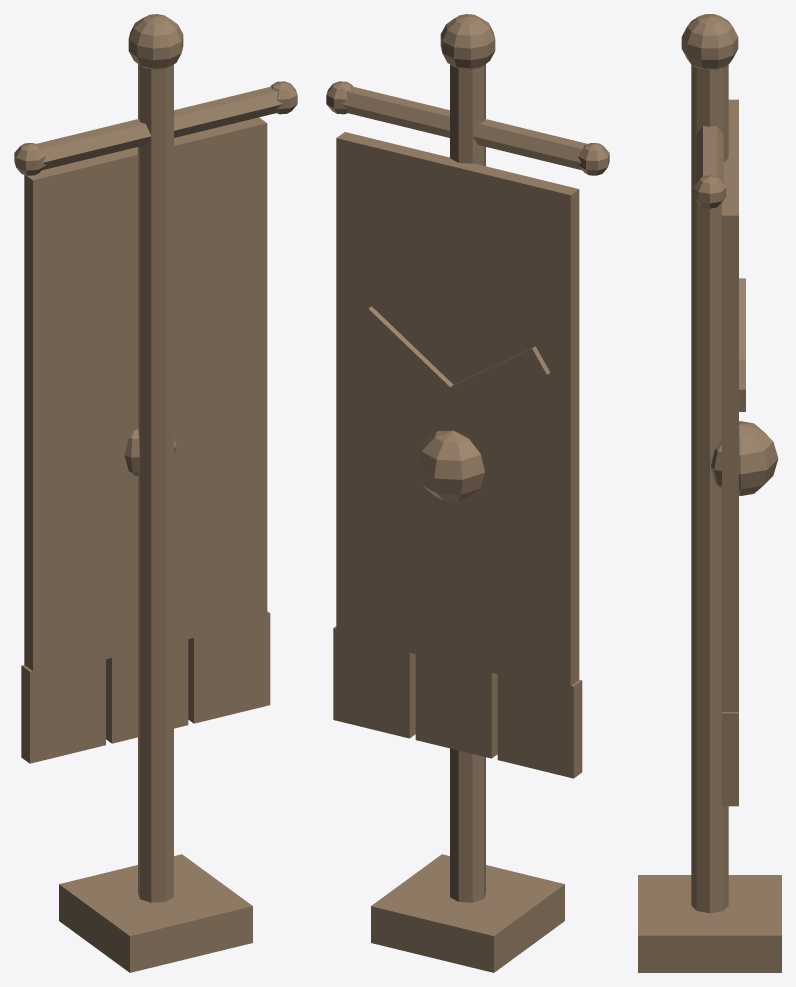
Rendered from aldrich_court_banner.fbx.
3 views of the same model, side by side, from view 1: azimuth 30°, elevation 25°; view 2: azimuth 150°, elevation 25°; view 3: azimuth 270°, elevation 25° (orthographic).
Parts seen in each view (by area): view 1: aldrich_court_banner; view 2: aldrich_court_banner; view 3: aldrich_court_banner.
Part boxes in pixels (x1,y1,x2,y2): aldrich_court_banner: (14,14,297,972); aldrich_court_banner: (326,14,609,972); aldrich_court_banner: (638,14,781,972).
Size of the model in its own units: 0.9551 by 2.99 by 0.42.
